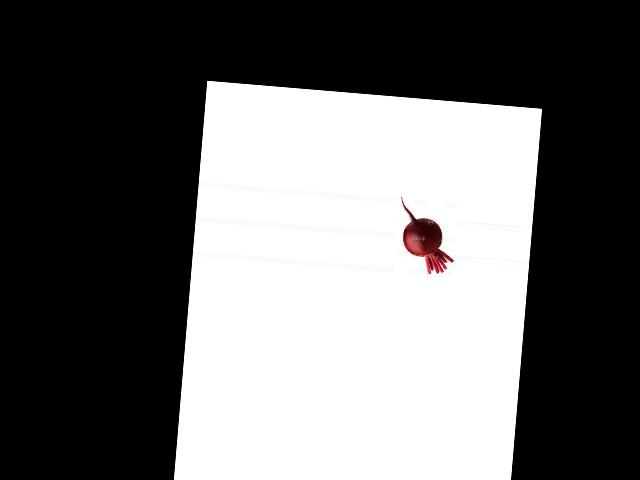beet: (394, 197, 458, 275)
